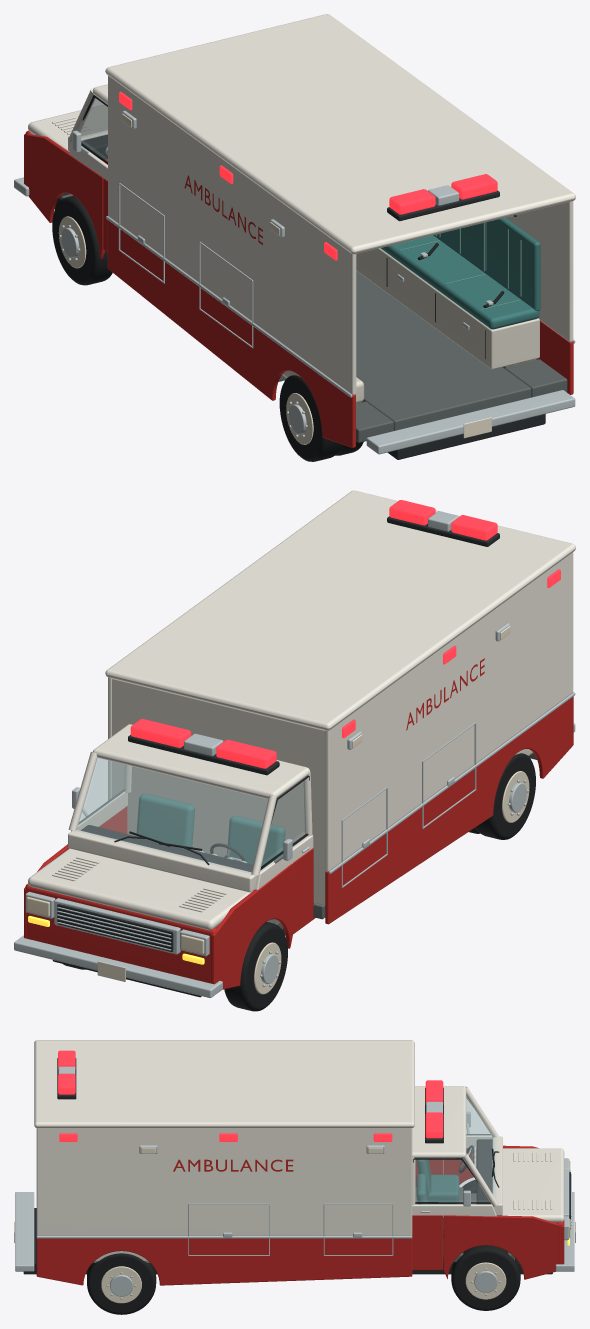
The model's file is BraunBody.fbx.
3 renders of one model, top to bottom at view 1: azimuth 30°, elevation 25°; view 2: azimuth 150°, elevation 25°; view 3: azimuth 270°, elevation 25°, orthographic. The views are drawn at different scales.
Visible parts, largest first — view 1: BraunBody; view 2: BraunBody; view 3: BraunBody.
Boxes of the visible parts, box(x1,y1,x2,y2) form: BraunBody: box(14, 14, 575, 461); BraunBody: box(14, 490, 575, 1011); BraunBody: box(14, 1040, 575, 1314).
Size of the model in its own units: 251 by 280 by 688.
